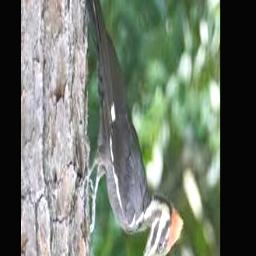Woodpecker: (83, 0, 184, 256)
